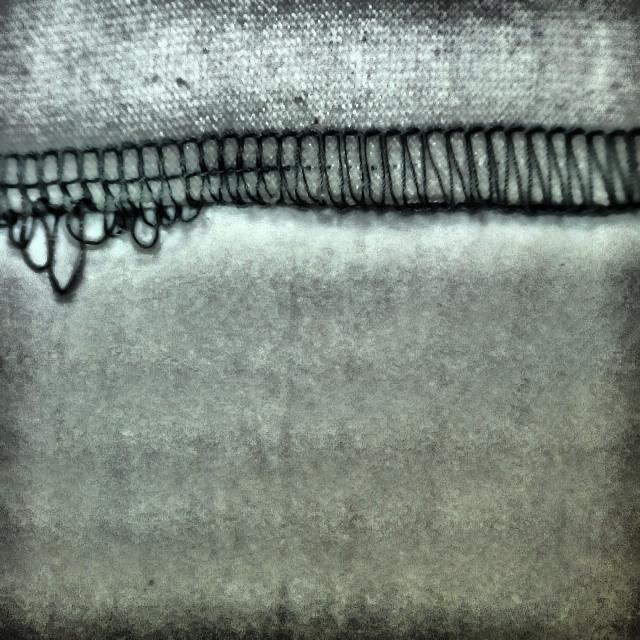gray stitch: (1, 137, 202, 295)
